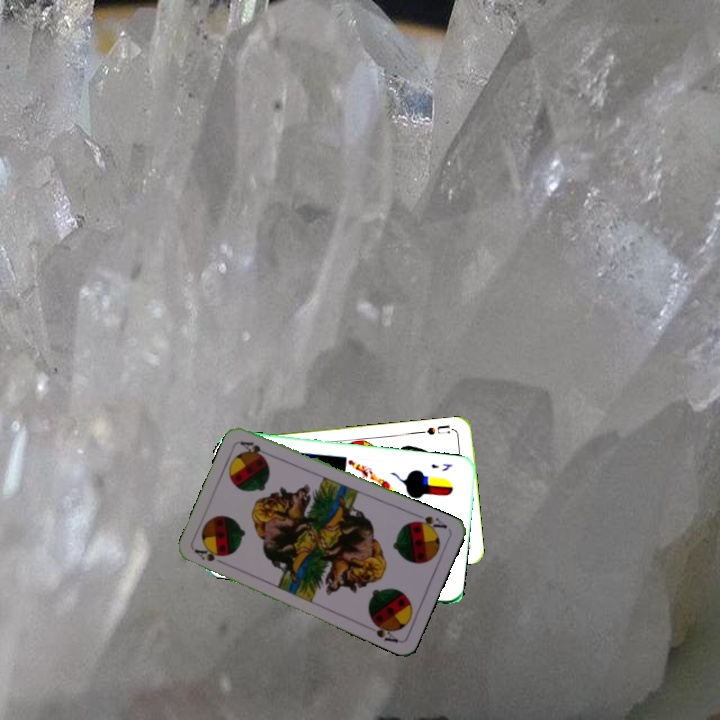EK: (427, 459, 455, 474)
SA: (409, 510, 450, 535), (190, 545, 229, 568)
SU: (416, 421, 452, 437)
